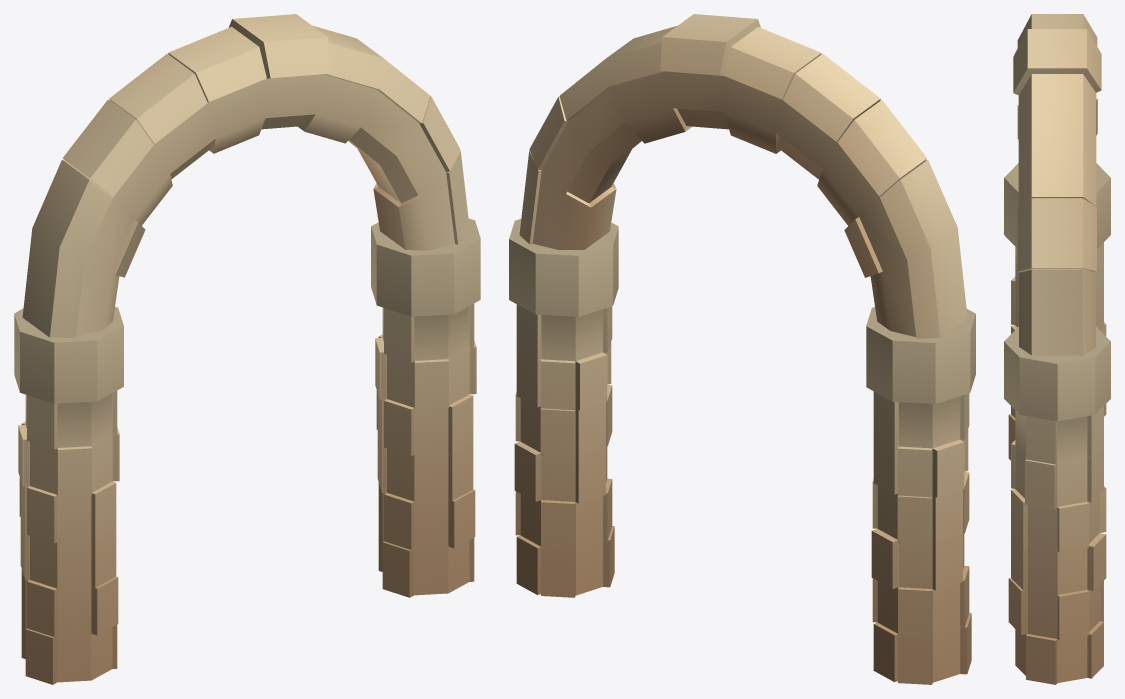
The model's file is Model_ark.fbx.
3 views of the same model, side by side, from view 1: azimuth 30°, elevation 25°; view 2: azimuth 150°, elevation 25°; view 3: azimuth 270°, elevation 25° (orthographic). The views are drawn at different scales.
Visible parts, largest first — view 1: ark; view 2: ark; view 3: ark.
Boxes of the visible parts, <box> form: ark: <box>14,14,480,684</box>; ark: <box>509,14,975,684</box>; ark: <box>1004,14,1110,684</box>.
Bounding box in the file's own units: 10.59 × 13.12 × 2.29.
